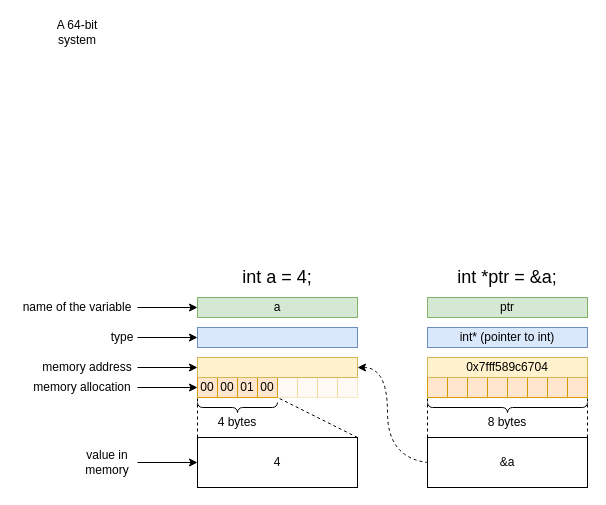
Image size: 606x505. Some labels were removed from this diagram. Here are the shapes that lost their labels. From the top down, the box of each, then its label:
(196, 326, 358, 348): int
(196, 356, 358, 378): 0x7fff0cc8a3a4
